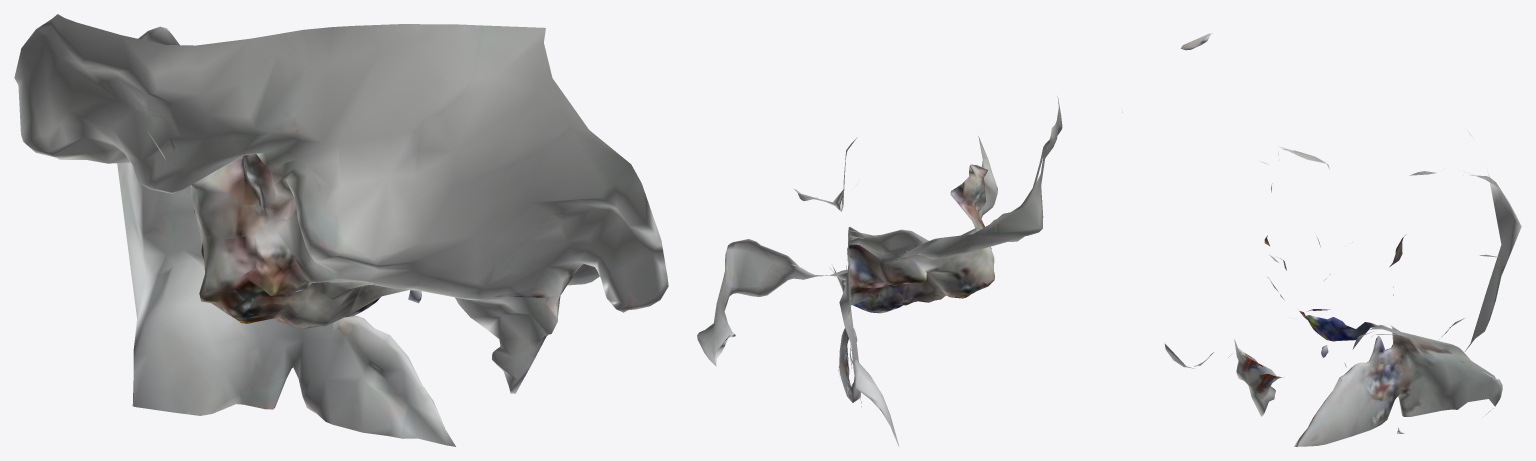
The model's file is hall.glb.
3 views of the same model, side by side, from view 1: azimuth 30°, elevation 25°; view 2: azimuth 150°, elevation 25°; view 3: azimuth 270°, elevation 25° (orthographic). The views are drawn at different scales.
Bounding box in the file's own units: 1.33 × 1.22 × 1.24.
Materials: 1 (1 with a texture image).
